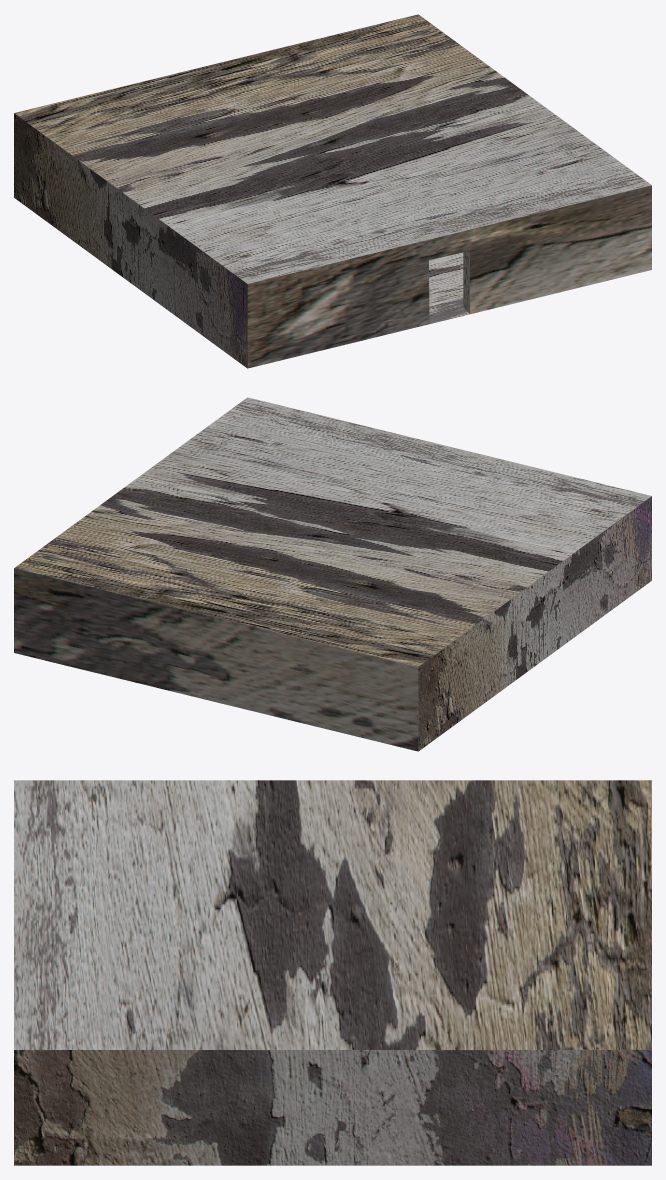
File: basement2.glb
3 renders of one model, top to bottom at view 1: azimuth 30°, elevation 25°; view 2: azimuth 150°, elevation 25°; view 3: azimuth 270°, elevation 25°, orthographic. The views are drawn at different scales.
Visible parts, largest first — view 1: Cube-col; view 2: Cube-col; view 3: Cube-col.
Part boxes in pixels (left/top/right/bottom): Cube-col: left=14, top=14, right=651, bottom=368; Cube-col: left=14, top=397, right=651, bottom=751; Cube-col: left=14, top=780, right=651, bottom=1165.
Bounding box in the file's own units: 20 × 4 × 20.
2 materials, 1 textured.
